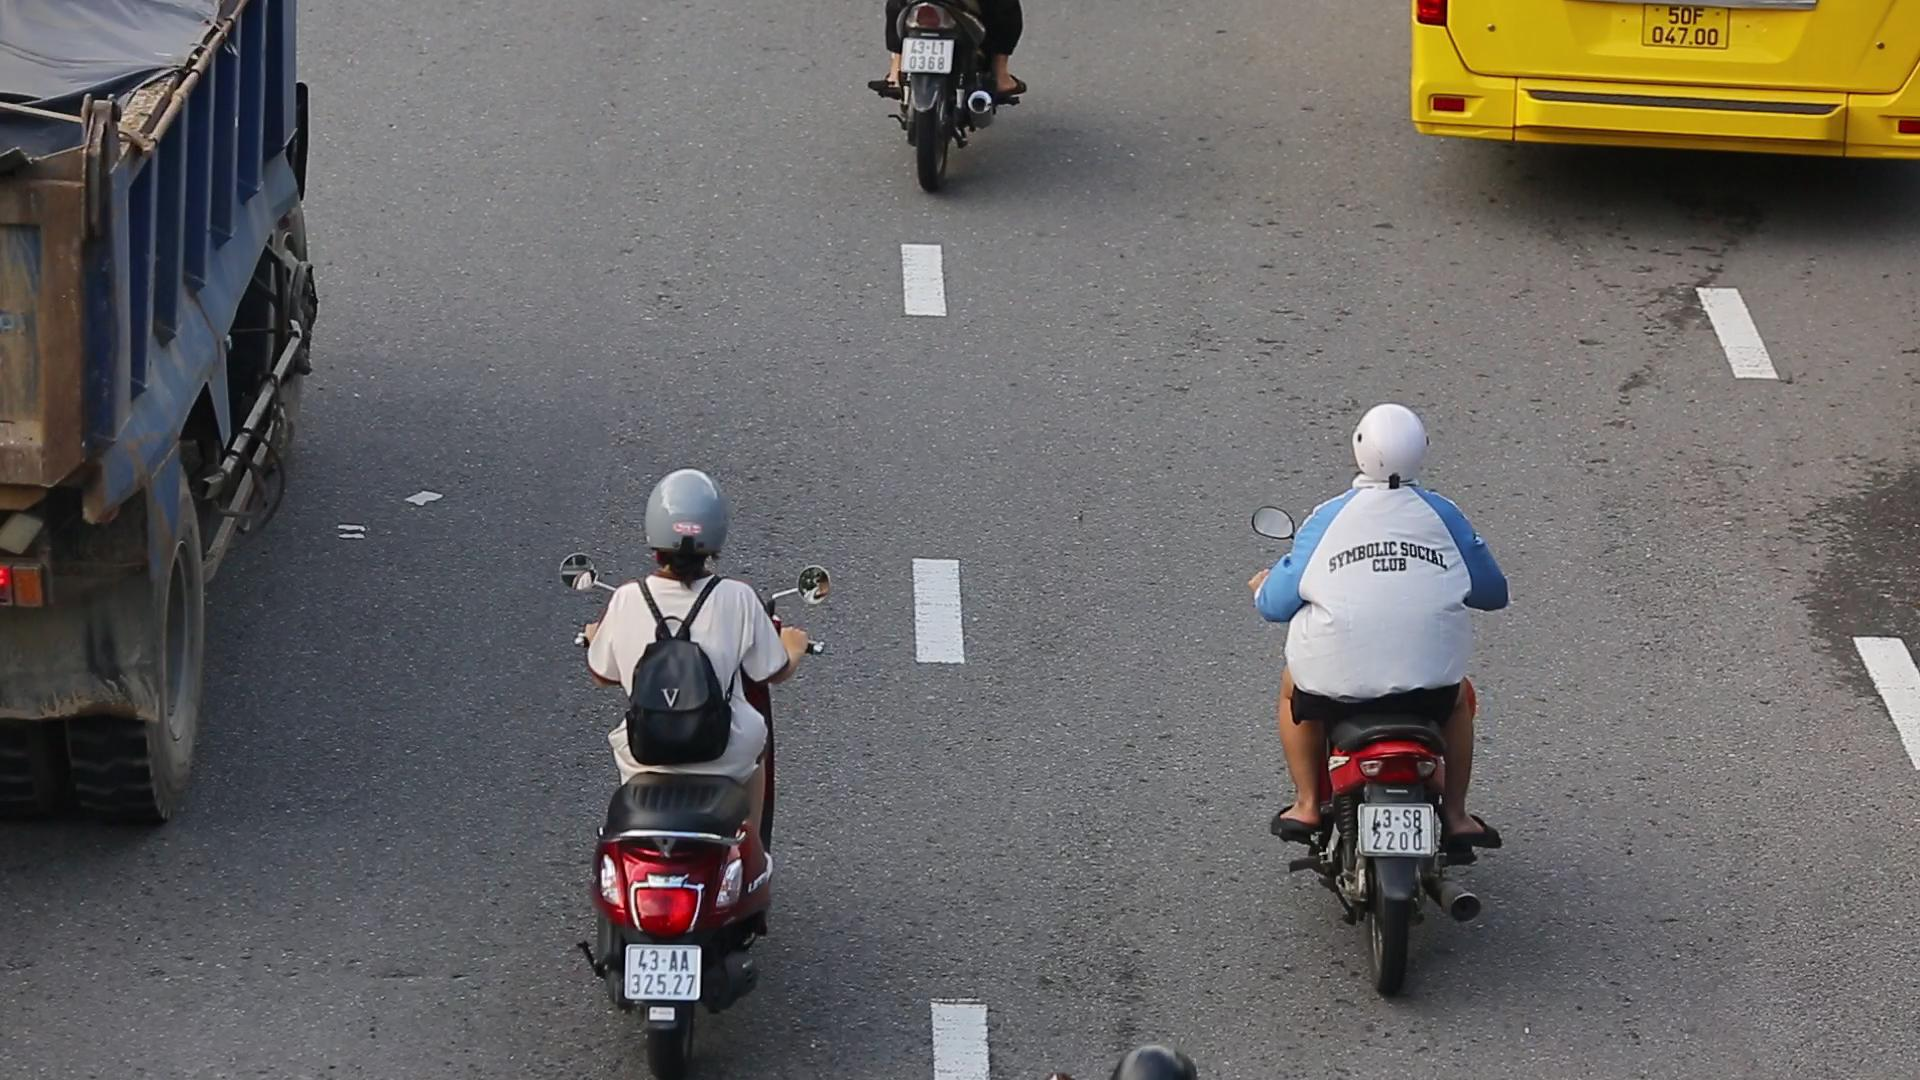motobike: (549, 467, 832, 1060), (1261, 405, 1506, 1017)
